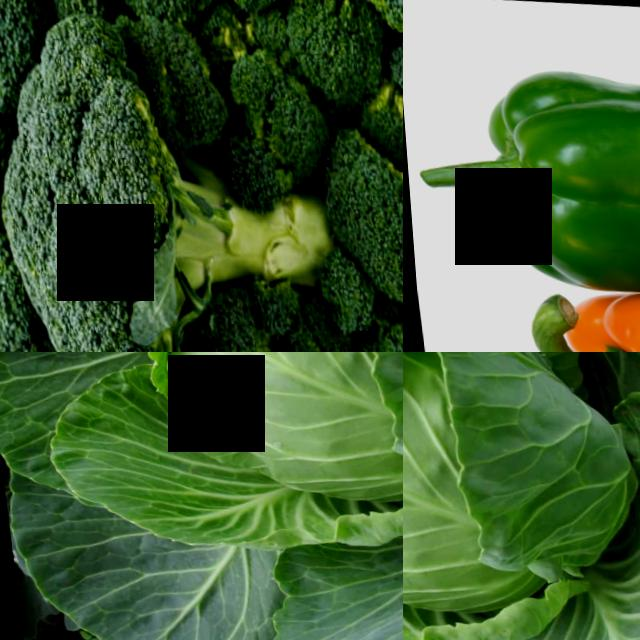bell pepper: (450, 47, 640, 295)
broccoli: (0, 11, 394, 352)
cabbage: (79, 352, 403, 567), (403, 352, 640, 640)
